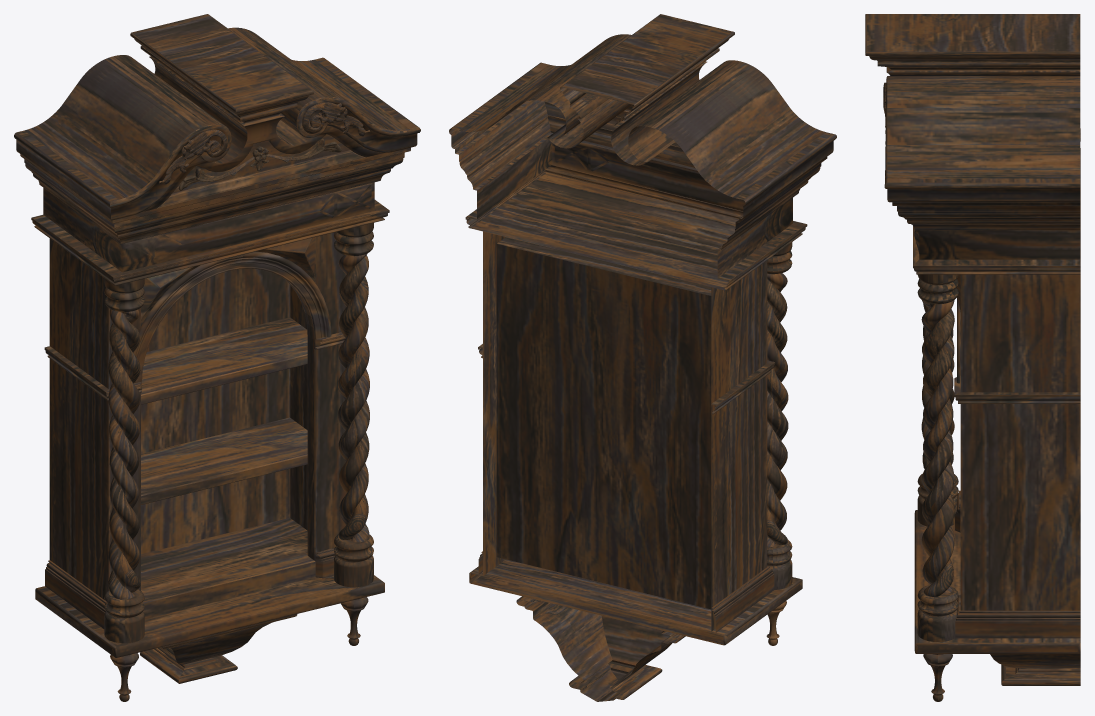
The picture shows the model from 3 angles, left to right: view 1: azimuth 30°, elevation 25°; view 2: azimuth 150°, elevation 25°; view 3: azimuth 270°, elevation 25°; orthographic projection. The views are drawn at different scales.
Visible parts, largest first — view 1: Mesh1_Color_D05_0, Mesh39_Color_I05_0, Mesh27_Color_E06_0, Mesh16_Color_L06_0, Mesh8_Color_I02_0, Mesh19_Color_B06_0, Mesh11_Color_C06_0, Mesh7_Color_E06_0, Mesh2_Color_B07_0, Mesh46_Material__25_0, Mesh20_Color_H07_0, Mesh34_Material__30_0 (+17 smaller); view 2: Mesh1_Color_D05_0, Mesh39_Color_I05_0, Mesh29_Color_I02_0, Mesh8_Color_I02_0, Mesh16_Color_L06_0, Mesh27_Color_E06_0, Mesh3_Color_B05_0, Mesh33_Material__30_0, Mesh34_Material__30_0, Mesh40_Color_L06_0, Mesh15_Color_I02_0, Mesh30_Color_B07_0 (+5 smaller); view 3: Mesh1_Color_D05_0, Mesh39_Color_I05_0, Mesh27_Color_E06_0, Mesh16_Color_L06_0, Mesh38_Material__30_0, Mesh37_Material__30_0, Mesh8_Color_I02_0, Mesh41_Color_I01_0, Mesh12_Color_K02_0, Mesh3_Color_B05_0, Mesh35_Color_F07_0, Mesh4_Color_J01_0 (+3 smaller).
Part boxes in pixels (x1,y1,x2,y2): Mesh1_Color_D05_0: (49, 232, 346, 599); Mesh39_Color_I05_0: (14, 14, 417, 243); Mesh27_Color_E06_0: (110, 14, 420, 220); Mesh16_Color_L06_0: (43, 182, 374, 272); Mesh8_Color_I02_0: (35, 575, 384, 657); Mesh19_Color_B06_0: (141, 417, 307, 504); Mesh11_Color_C06_0: (141, 317, 307, 404); Mesh7_Color_E06_0: (112, 147, 410, 243); Mesh2_Color_B07_0: (141, 518, 307, 595); Mesh46_Material__25_0: (133, 251, 331, 383); Mesh20_Color_H07_0: (142, 555, 315, 618); Mesh34_Material__30_0: (108, 309, 140, 592); Mesh1_Color_D05_0: (483, 231, 767, 631); Mesh39_Color_I05_0: (449, 14, 836, 249); Mesh29_Color_I02_0: (471, 173, 737, 289); Mesh8_Color_I02_0: (469, 559, 802, 645); Mesh16_Color_L06_0: (477, 139, 792, 277); Mesh27_Color_E06_0: (541, 14, 832, 133); Mesh3_Color_B05_0: (516, 596, 685, 701); Mesh33_Material__30_0: (767, 280, 788, 544); Mesh34_Material__30_0: (767, 273, 788, 547); Mesh40_Color_L06_0: (602, 616, 669, 679); Mesh15_Color_I02_0: (545, 164, 805, 223); Mesh30_Color_B07_0: (497, 237, 711, 295); Mesh1_Color_D05_0: (960, 148, 1080, 610); Mesh39_Color_I05_0: (865, 51, 1080, 230); Mesh27_Color_E06_0: (865, 14, 1080, 185); Mesh16_Color_L06_0: (914, 230, 1080, 259); Mesh38_Material__30_0: (921, 300, 954, 596); Mesh37_Material__30_0: (921, 300, 954, 593); Mesh8_Color_I02_0: (914, 510, 1080, 653); Mesh41_Color_I01_0: (955, 610, 1080, 638); Mesh12_Color_K02_0: (913, 259, 1080, 274); Mesh3_Color_B05_0: (990, 654, 1080, 685); Mesh35_Color_F07_0: (917, 585, 958, 641); Mesh4_Color_J01_0: (954, 392, 1080, 403).
Size of the model in its own units: 0.3853 by 0.7523 by 0.2264.
19 materials, 19 textured.
